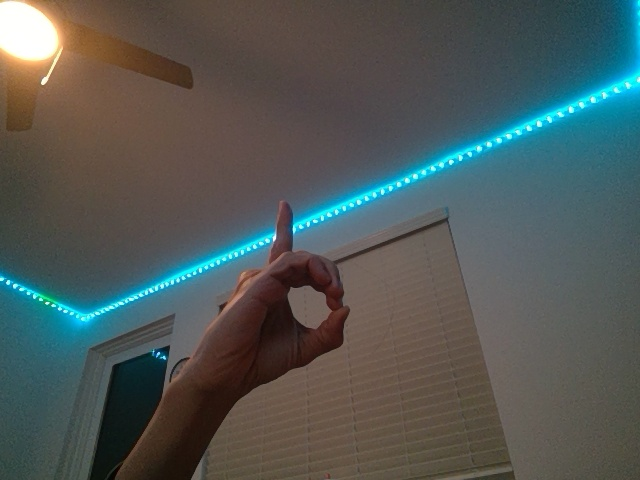d: (211, 193, 349, 398)
